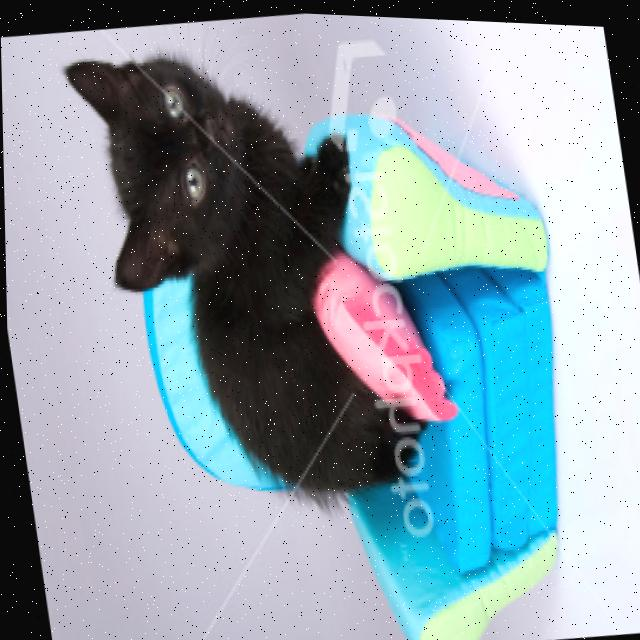Bombay: (56, 13, 444, 531)
